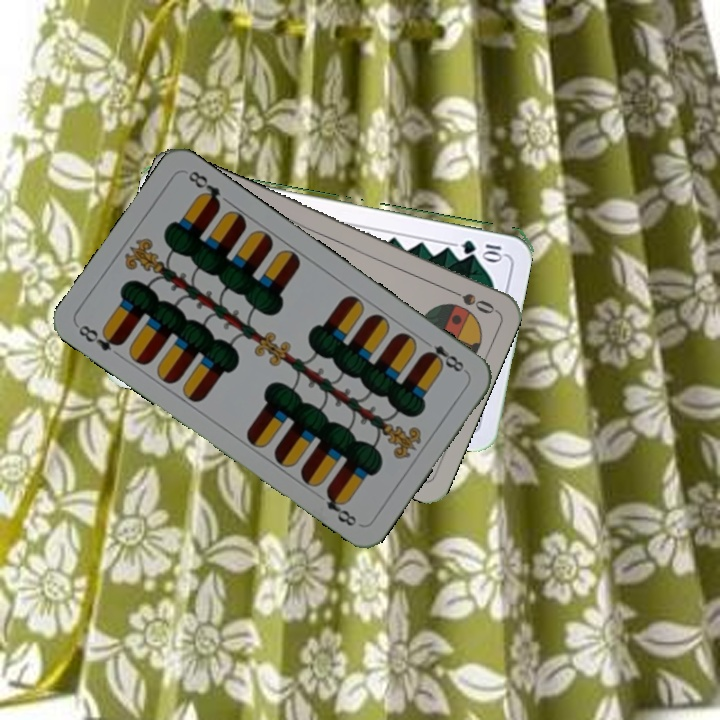E8: (419, 341, 470, 376), (74, 320, 126, 354)
G10: (457, 236, 507, 260)
SO: (441, 283, 498, 317)
